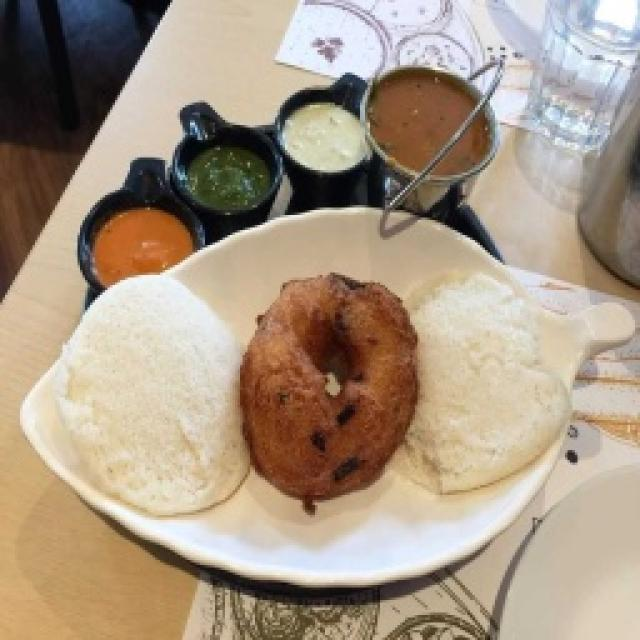idli: (58, 275, 249, 514), (398, 273, 569, 492)
